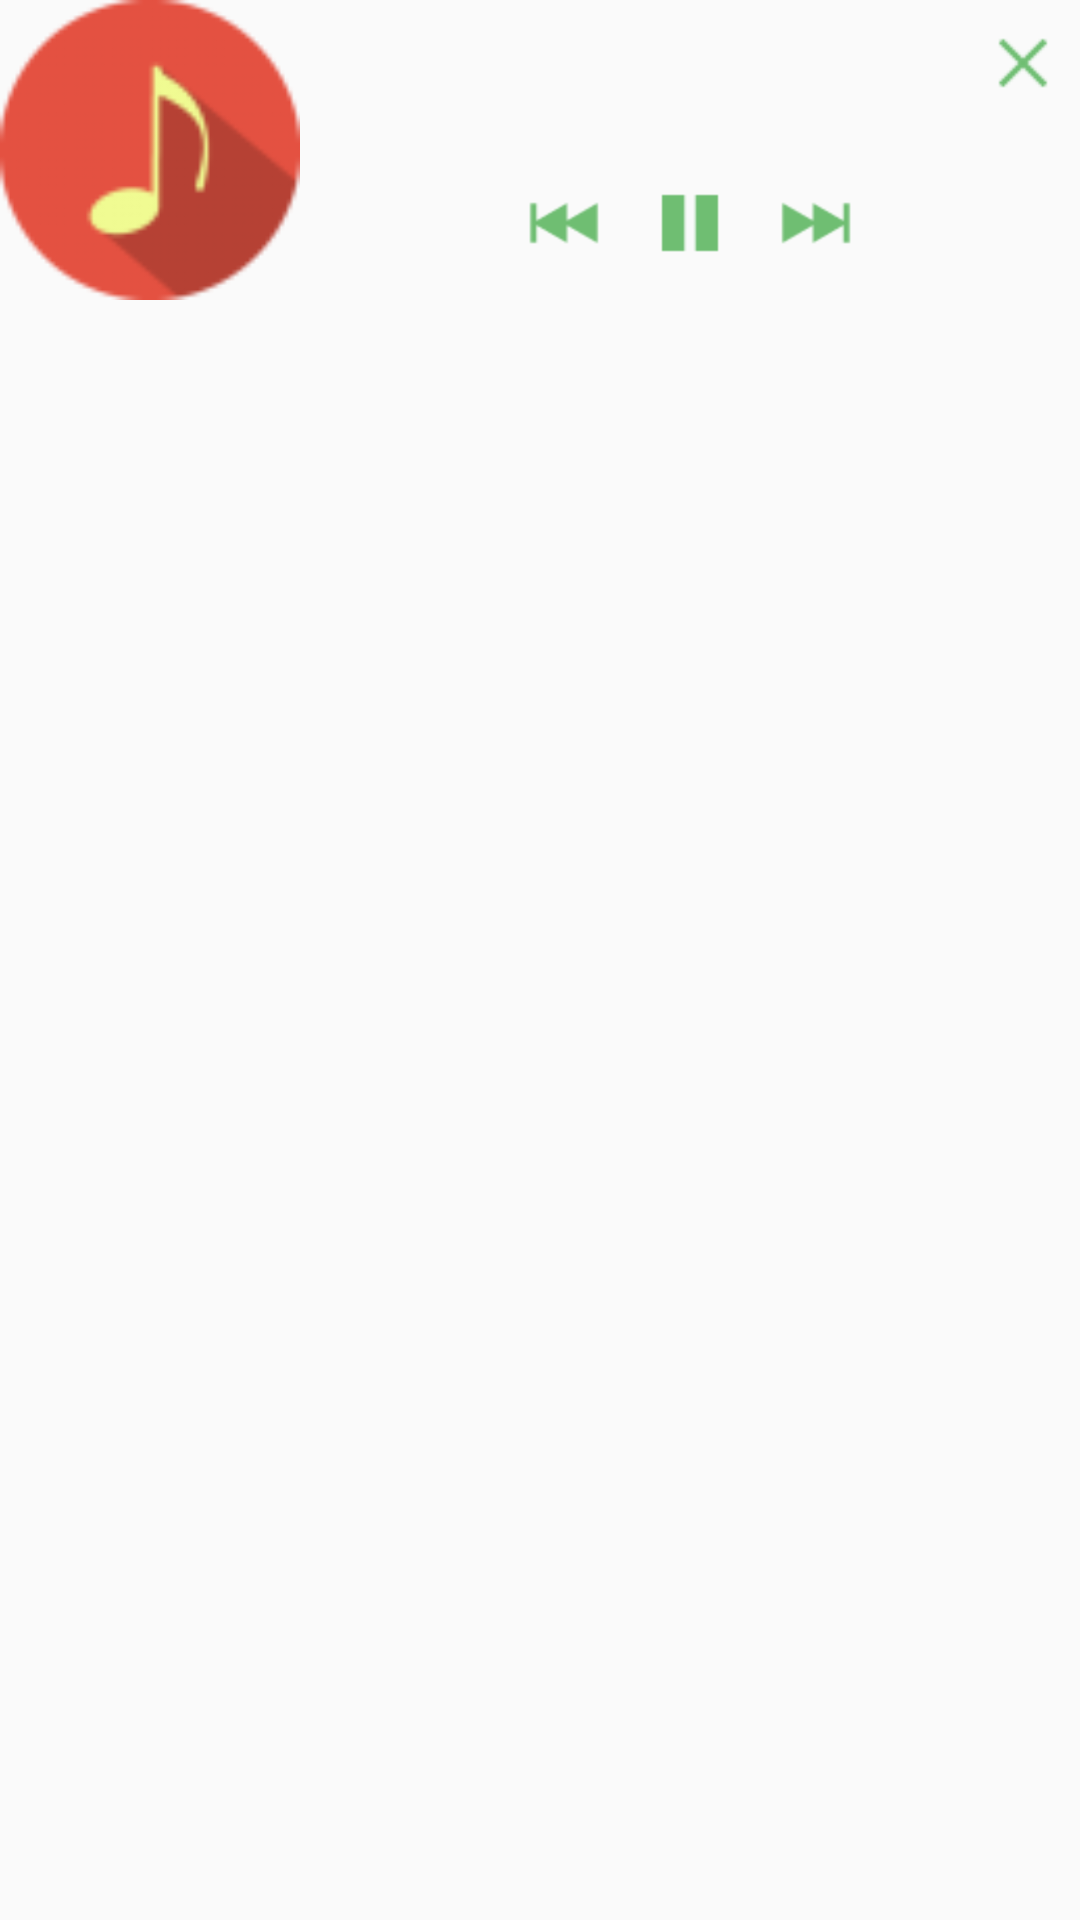

Screen size 1080×1920. Icon name, then its box in pixels as (x1,y1,x2,y2):
next: (781,202,851,244)
pause: (661,194,719,252)
previous: (529,202,599,244)
remove: (999,39,1047,87)
